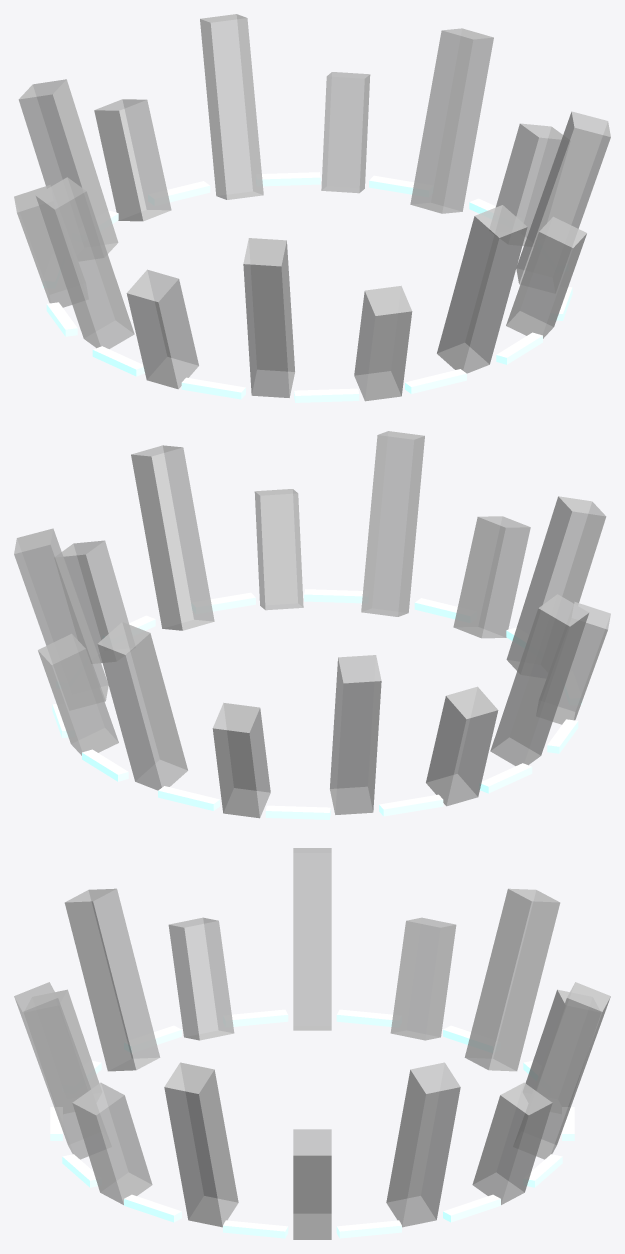
Rendered from FXCrystalRing.fbx.
The picture shows the model from 3 angles, top to bottom: view 1: azimuth 30°, elevation 25°; view 2: azimuth 150°, elevation 25°; view 3: azimuth 270°, elevation 25°; orthographic projection.
Parts seen in each view (by area): view 1: FX Crystal Ring_body_1, FX Crystal Ring_body_3, FX Crystal Ring_body_11, FX Crystal Ring_body_7, FX Crystal Ring_body_9, FX Crystal Ring_body_4, FX Crystal Ring_body_5, FX Crystal Ring_body_8, FX Crystal Ring_body_13, FX Crystal Ring_body_10, FX Crystal Ring_body_12, FX Crystal Ring_body_2 (+11 smaller); view 2: FX Crystal Ring_body_13, FX Crystal Ring_body_11, FX Crystal Ring_body_3, FX Crystal Ring_body_7, FX Crystal Ring_body_5, FX Crystal Ring_body_10, FX Crystal Ring_body_9, FX Crystal Ring_body_6, FX Crystal Ring_body_1, FX Crystal Ring_body_4, FX Crystal Ring_body_2, FX Crystal Ring_body_12 (+11 smaller); view 3: FX Crystal Ring_body_5, FX Crystal Ring_body_9, FX Crystal Ring_body_1, FX Crystal Ring_body_13, FX Crystal Ring_body_7, FX Crystal Ring_body_6, FX Crystal Ring_body_8, FX Crystal Ring_body_11, FX Crystal Ring_body_3, FX Crystal Ring_body_12, FX Crystal Ring_body_2, FX Crystal Ring_body_0 (+12 smaller).
Part boxes in pixels (box(x1,y1,x2,y2)): FX Crystal Ring_body_1: box(410, 28, 493, 213); FX Crystal Ring_body_3: box(200, 14, 263, 199); FX Crystal Ring_body_11: box(437, 205, 527, 373); FX Crystal Ring_body_7: box(36, 177, 134, 348); FX Crystal Ring_body_9: box(243, 238, 294, 397); FX Crystal Ring_body_4: box(94, 99, 171, 221); FX Crystal Ring_body_5: box(18, 79, 118, 254); FX Crystal Ring_body_8: box(126, 269, 198, 389); FX Crystal Ring_body_13: box(516, 111, 610, 284); FX Crystal Ring_body_10: box(354, 285, 412, 401); FX Crystal Ring_body_12: box(506, 216, 586, 338); FX Crystal Ring_body_2: box(321, 72, 370, 193); FX Crystal Ring_body_13: box(131, 445, 214, 630); FX Crystal Ring_body_11: box(361, 431, 424, 616); FX Crystal Ring_body_3: box(97, 622, 187, 790); FX Crystal Ring_body_7: box(490, 594, 588, 765); FX Crystal Ring_body_5: box(330, 655, 381, 814); FX Crystal Ring_body_10: box(453, 516, 530, 638); FX Crystal Ring_body_9: box(506, 496, 606, 671); FX Crystal Ring_body_6: box(426, 686, 498, 806); FX Crystal Ring_body_1: box(14, 528, 108, 701); FX Crystal Ring_body_4: box(212, 702, 270, 818); FX Crystal Ring_body_2: box(38, 633, 118, 755); FX Crystal Ring_body_12: box(254, 489, 303, 610); FX Crystal Ring_body_5: box(464, 888, 560, 1071); FX Crystal Ring_body_9: box(64, 888, 160, 1071); FX Crystal Ring_body_1: box(386, 1062, 460, 1227); FX Crystal Ring_body_13: box(164, 1062, 238, 1227); FX Crystal Ring_body_7: box(293, 848, 331, 1030); FX Crystal Ring_body_6: box(390, 917, 456, 1040); FX Crystal Ring_body_8: box(168, 917, 234, 1040); FX Crystal Ring_body_11: box(14, 982, 90, 1159); FX Crystal Ring_body_3: box(534, 982, 610, 1159); FX Crystal Ring_body_12: box(72, 1082, 152, 1204); FX Crystal Ring_body_2: box(472, 1082, 552, 1204); FX Crystal Ring_body_0: box(293, 1129, 331, 1239).
Size of the model in its own units: 464 by 144 by 467.
